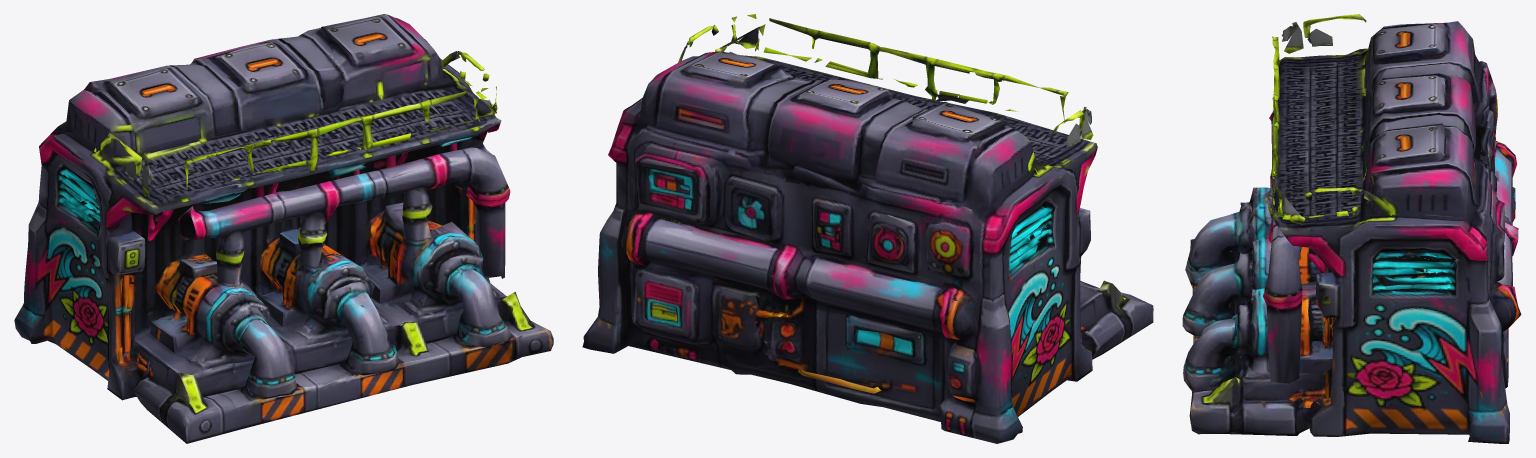
The model's file is GW_D02_flood_pump_bank.glb.
3 views of the same model, side by side, from view 1: azimuth 30°, elevation 25°; view 2: azimuth 150°, elevation 25°; view 3: azimuth 270°, elevation 25° (orthographic). The views are drawn at different scales.
Visible parts, largest first — view 1: tripo_node_7953bcf4-a24f-4080-846c-addbf2649a42; view 2: tripo_node_7953bcf4-a24f-4080-846c-addbf2649a42; view 3: tripo_node_7953bcf4-a24f-4080-846c-addbf2649a42.
Boxes of the visible parts, <box> form: tripo_node_7953bcf4-a24f-4080-846c-addbf2649a42: <box>14,14,553,443</box>; tripo_node_7953bcf4-a24f-4080-846c-addbf2649a42: <box>582,14,1153,443</box>; tripo_node_7953bcf4-a24f-4080-846c-addbf2649a42: <box>1182,14,1521,443</box>.
Size of the model in its own units: 0.9987 by 0.6228 by 0.7342.
1 material, 1 textured.
